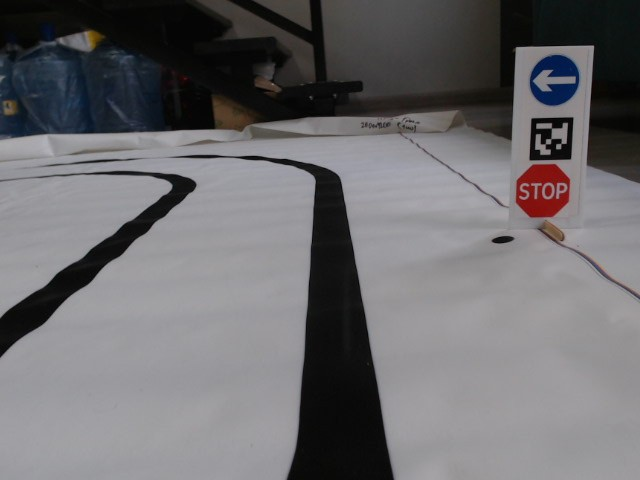Stop: (514, 162, 572, 219)
